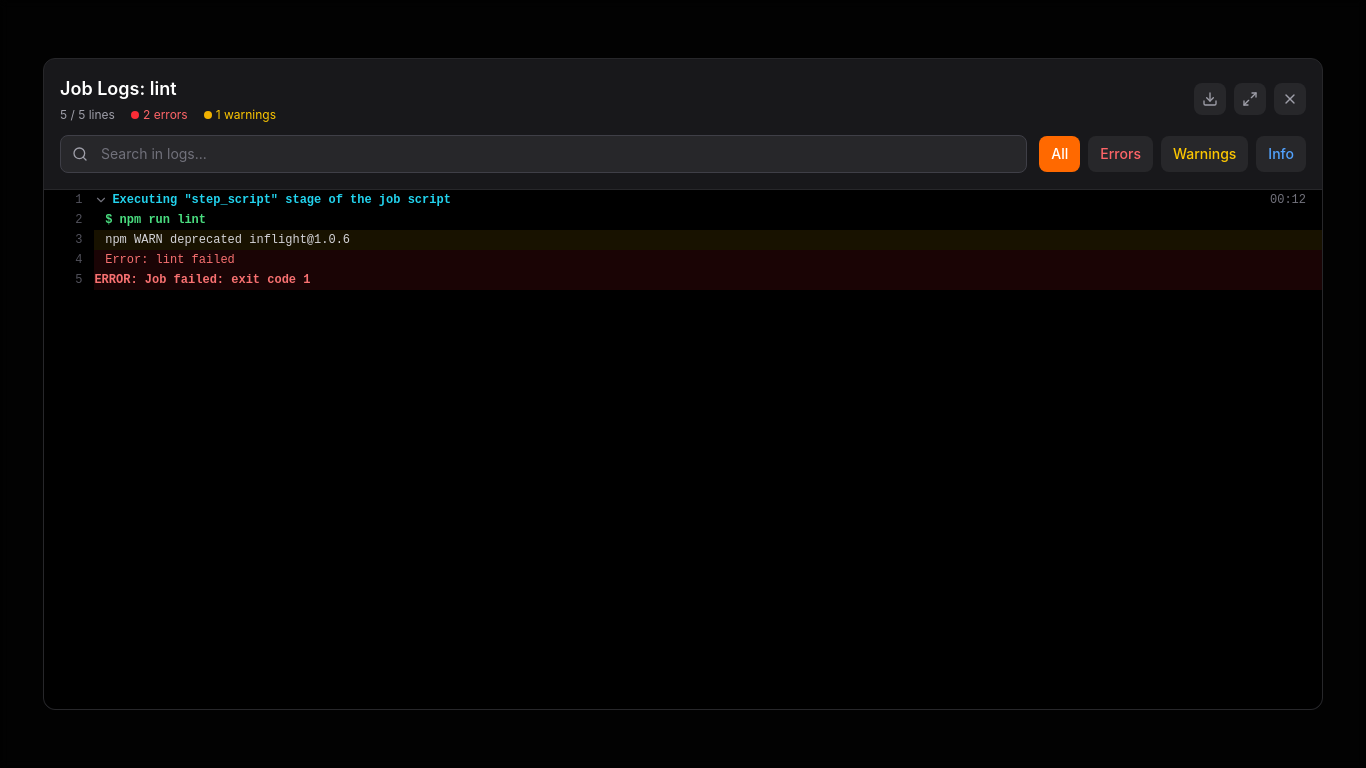
Test: LogViewer › searches and highlights
Type "lint" into the field labelled "Search in logs" at x=544, y=154, box [60,135,1027,173]
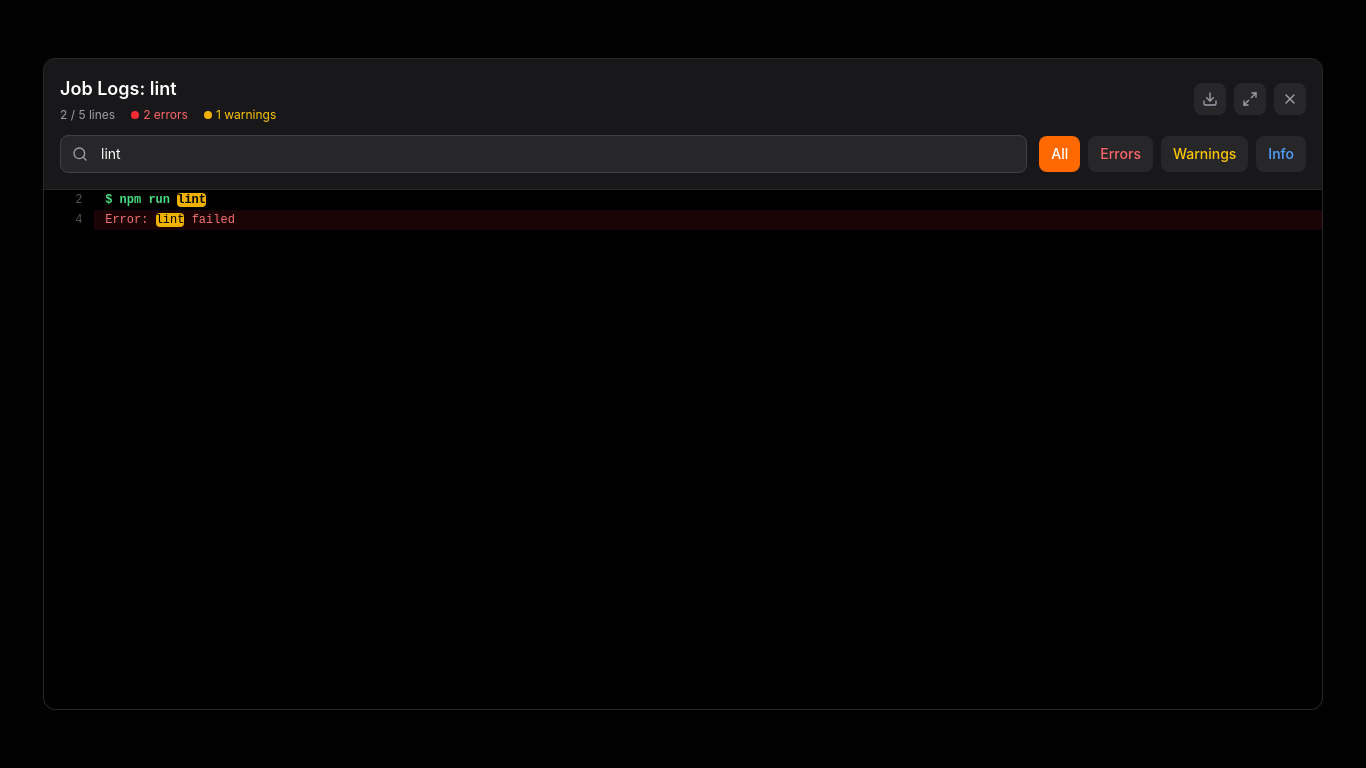
Expected: the text "2 / 5 lines" is shown, [60,107,115,123]
